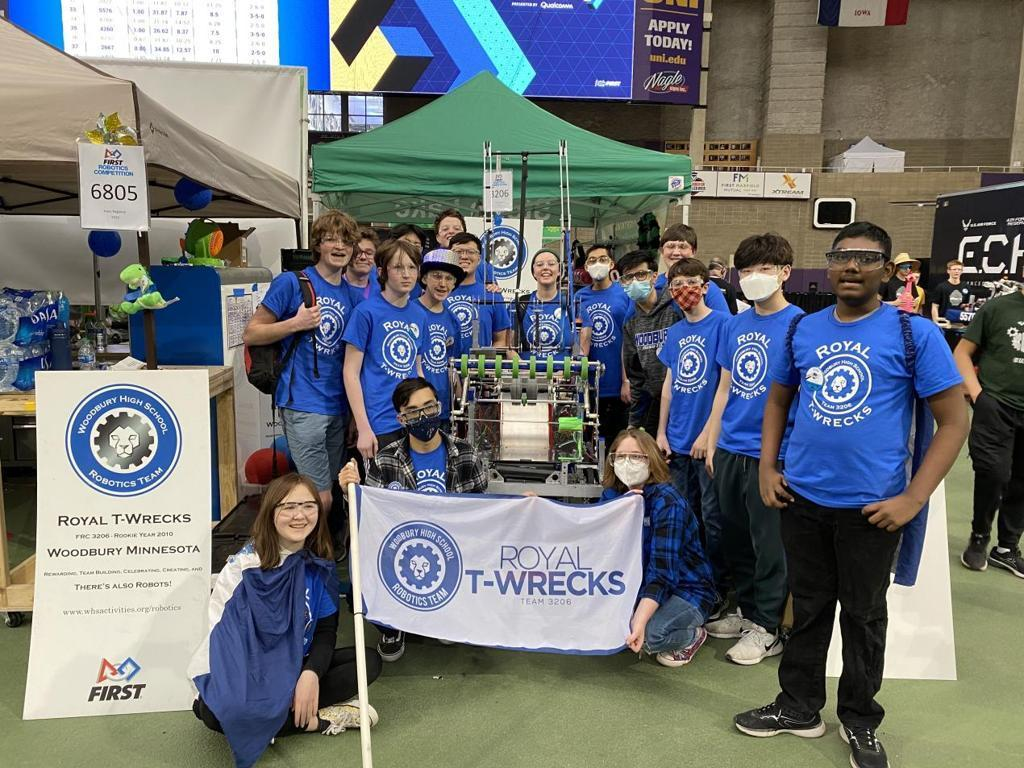robot: (414, 344, 628, 541)
